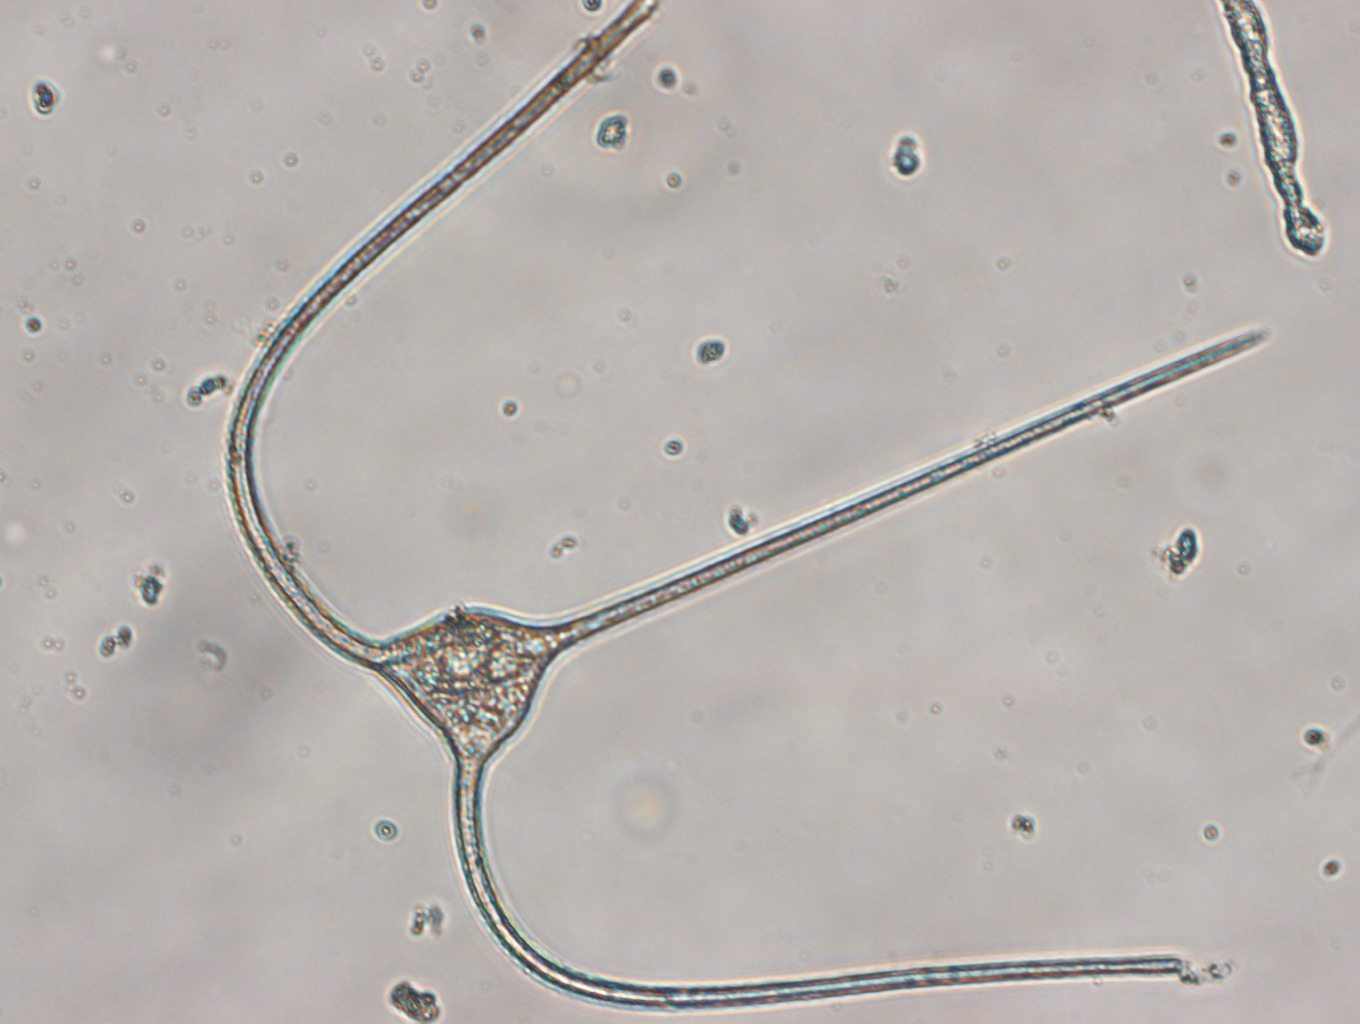ceratium trichoceros: (226, 1, 1272, 1012)
